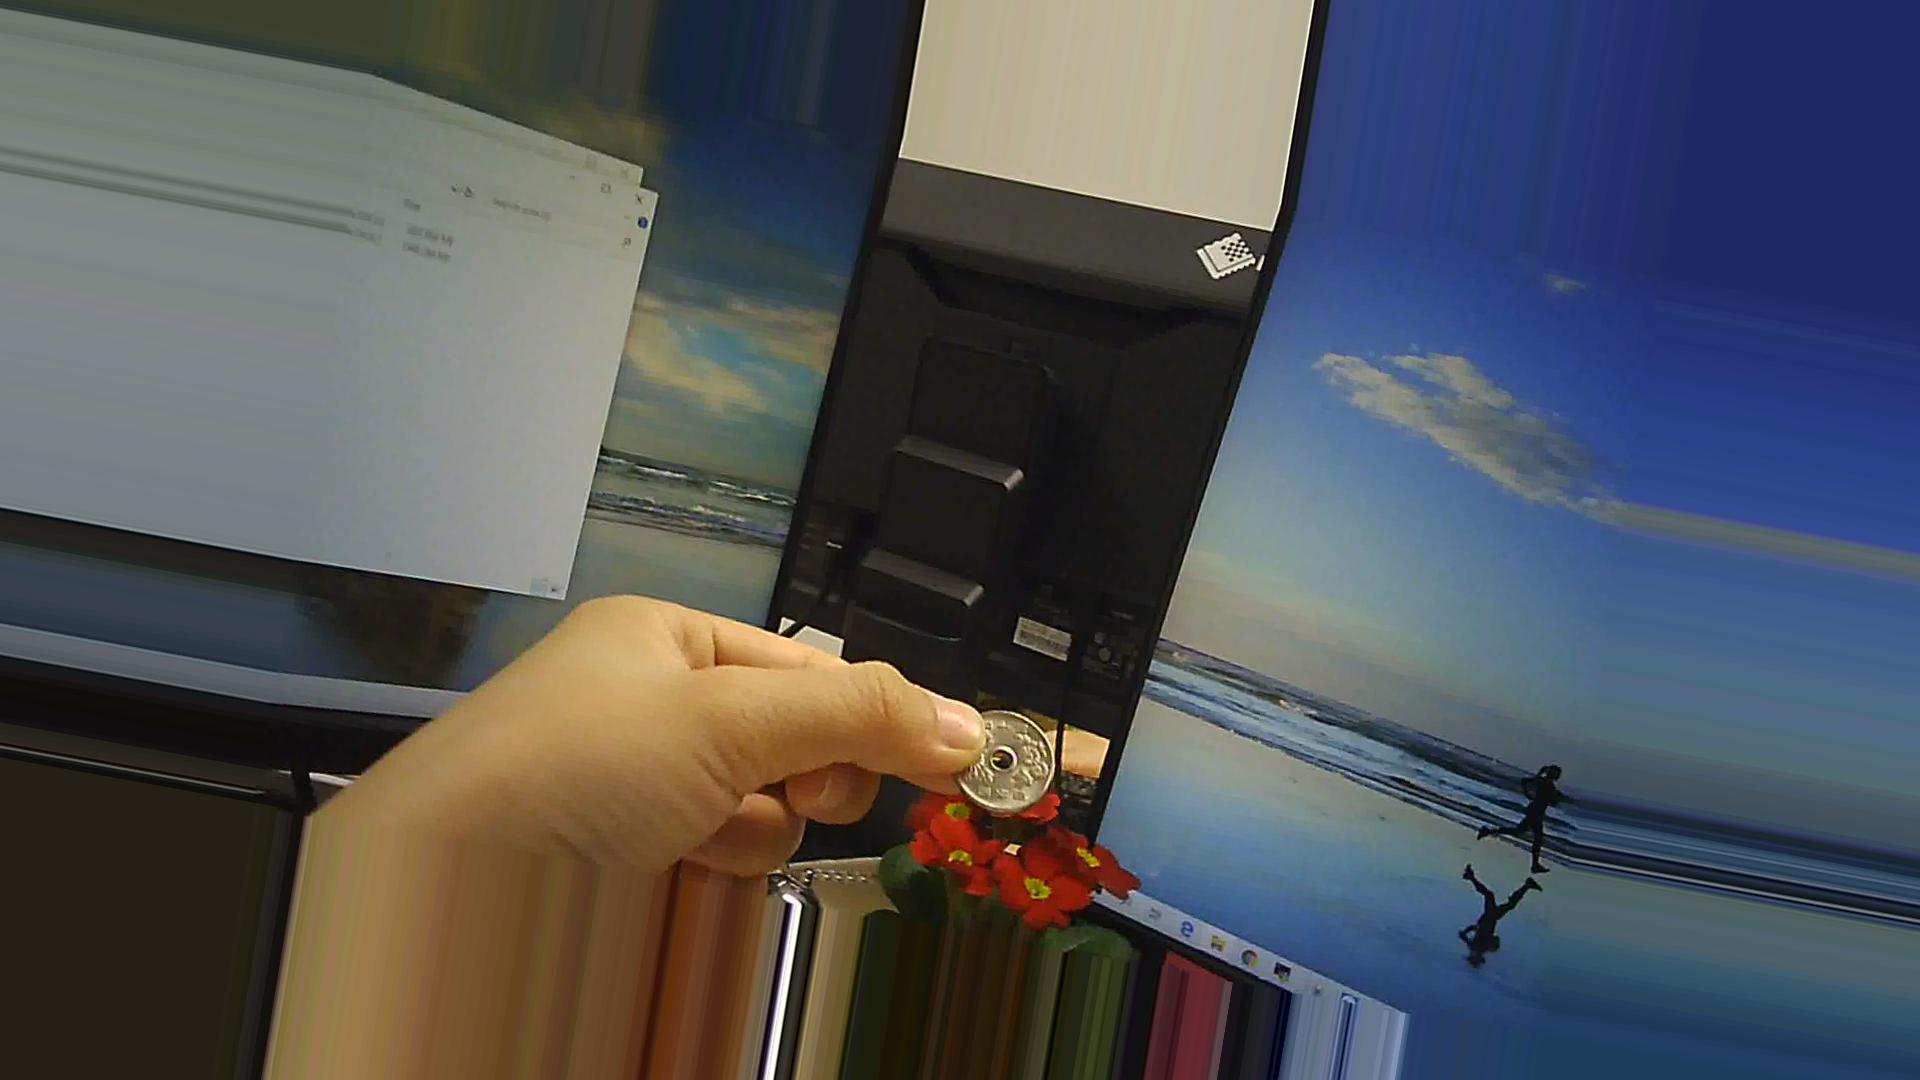50 Yen: (952, 698, 1063, 812)
